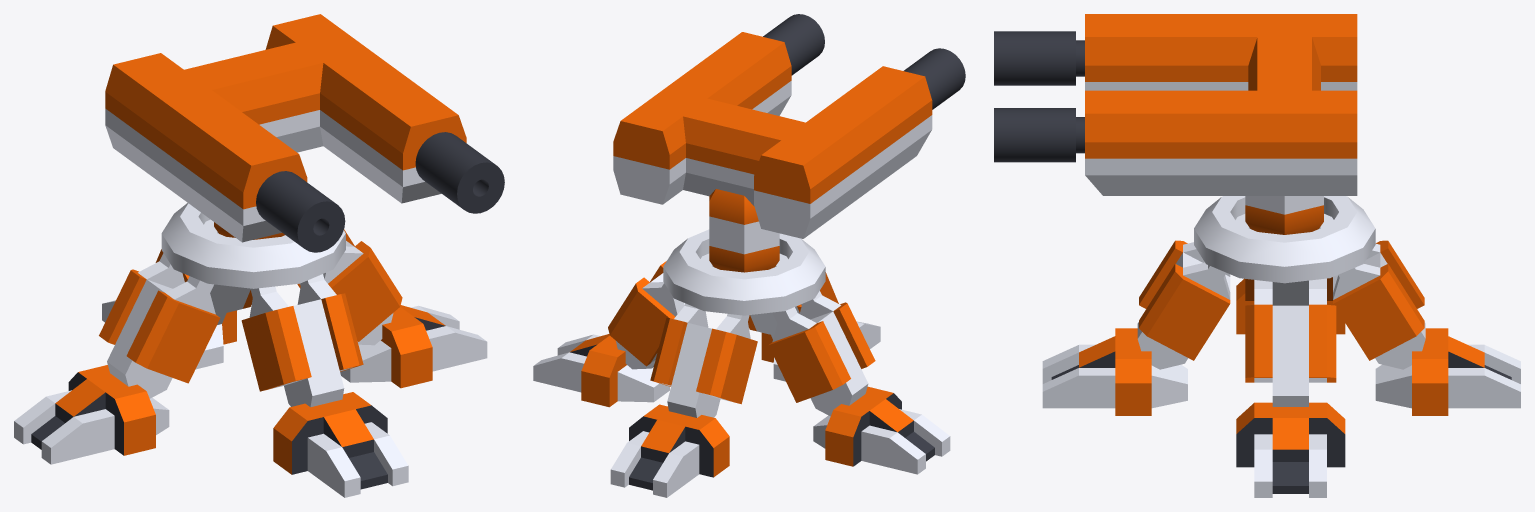
Rendered from Turret.fbx.
3 renders of one model, left to right at view 1: azimuth 30°, elevation 25°; view 2: azimuth 150°, elevation 25°; view 3: azimuth 270°, elevation 25°, orthographic. The views are drawn at different scales.
Visible parts, largest first — view 1: mediumBlaster_center (×3), leg_cover (×4), foot_double (×4), mediumBlaster_barrelSilencer (×2), ring_bevel; view 2: mediumBlaster_center (×3), leg_cover (×4), foot_double (×4), mediumBlaster_barrelSilencer (×2), ring_bevel, tank_single; view 3: mediumBlaster_center (×3), foot_double (×4), leg_cover (×4), mediumBlaster_barrelSilencer (×2), ring_bevel, tank_single.
Boxes of the visible parts, x1,y1,x2,y2 form: mediumBlaster_center (×3): [105, 14, 412, 214]; leg_cover (×4): [99, 229, 402, 407]; foot_double (×4): [14, 300, 487, 497]; mediumBlaster_barrelSilencer (×2): [197, 81, 504, 252]; ring_bevel: [161, 203, 345, 288]; mediumBlaster_center (×3): [613, 61, 891, 238]; leg_cover (×4): [608, 261, 875, 417]; foot_double (×4): [533, 321, 950, 497]; mediumBlaster_barrelSilencer (×2): [702, 14, 965, 179]; ring_bevel: [663, 229, 825, 315]; tank_single: [709, 189, 779, 272]; mediumBlaster_center (×3): [1175, 14, 1357, 195]; foot_double (×4): [1042, 278, 1520, 497]; leg_cover (×4): [1137, 240, 1425, 406]; mediumBlaster_barrelSilencer (×2): [994, 14, 1175, 195]; ring_bevel: [1194, 196, 1375, 283]; tank_single: [1245, 196, 1323, 234].
Bounding box in the file's own units: 27.34 × 20 × 29.
